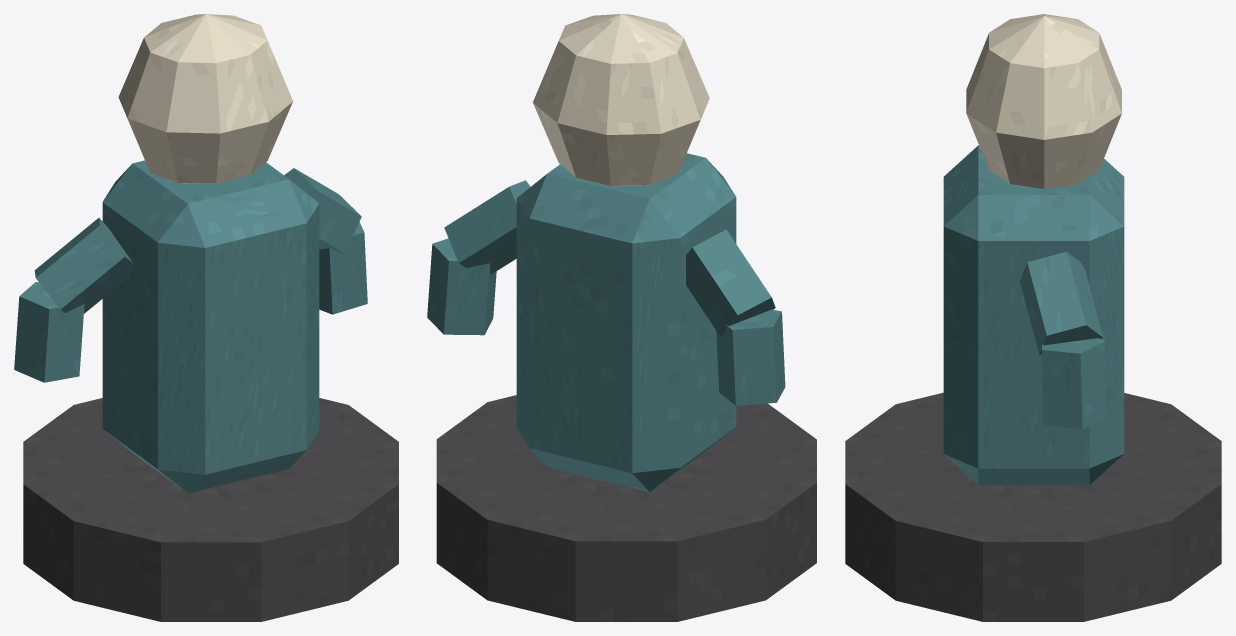
The model's file is toy_figurine.glb.
3 renders of one model, left to right at view 1: azimuth 30°, elevation 25°; view 2: azimuth 150°, elevation 25°; view 3: azimuth 270°, elevation 25°, orthographic.
Visible parts, largest first — view 1: block_upright figurine body, block_collectible display plinth, block_plastic head, block_molded arm 1 (×2), block_molded arm 0 (×2); view 2: block_collectible display plinth, block_upright figurine body, block_plastic head, block_molded arm 1 (×2), block_molded arm 0 (×2); view 3: block_collectible display plinth, block_upright figurine body, block_plastic head, block_molded arm 0, block_molded arm 1.
Boxes of the visible parts, bbox=[...] form: block_upright figurine body: bbox=[102, 160, 319, 493]; block_collectible display plinth: bbox=[23, 398, 398, 621]; block_plastic head: bbox=[118, 14, 292, 183]; block_molded arm 1 (×2): bbox=[14, 222, 367, 382]; block_molded arm 0 (×2): bbox=[34, 168, 361, 313]; block_collectible display plinth: bbox=[436, 395, 816, 621]; block_upright figurine body: bbox=[516, 153, 736, 491]; block_plastic head: bbox=[533, 14, 709, 186]; block_molded arm 1 (×2): bbox=[427, 238, 785, 405]; block_molded arm 0 (×2): bbox=[444, 180, 775, 336]; block_collectible display plinth: bbox=[845, 392, 1221, 621]; block_upright figurine body: bbox=[943, 145, 1124, 485]; block_plastic head: bbox=[966, 14, 1121, 188]; block_molded arm 0: bbox=[1020, 251, 1102, 354]; block_molded arm 1: bbox=[1042, 338, 1106, 429].
Size of the model in its own units: 0.0765 by 0.1111 by 0.072.
Materials: 1 (1 with a texture image).
